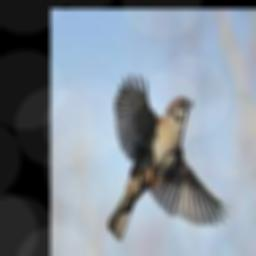Sparrow: (108, 71, 230, 241)
